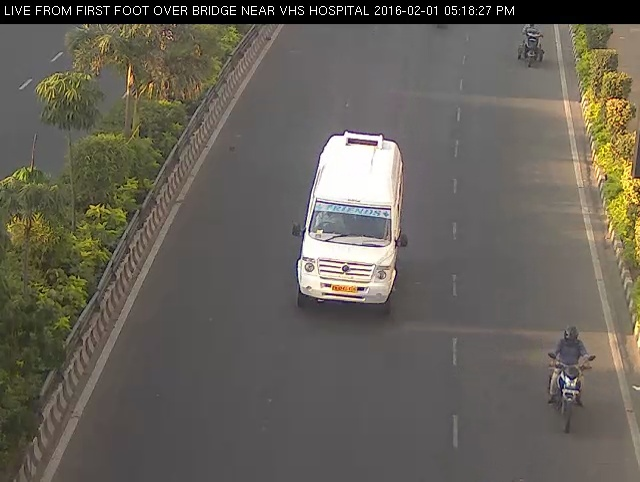Bus: (286, 113, 415, 328)
Person: (541, 324, 597, 435), (515, 21, 550, 80)
